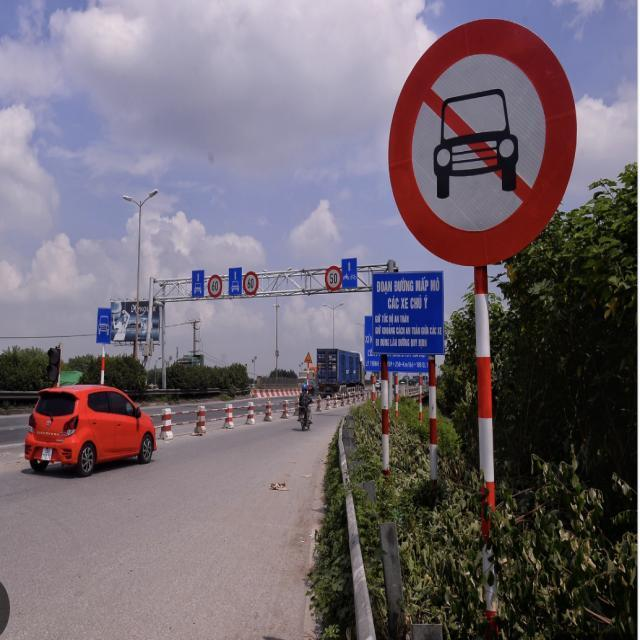103a-cam-oto: (388, 17, 577, 266)
127-toc-do-toi-da-50: (324, 264, 342, 292)
127-toc-do-toi-da-60: (208, 274, 222, 300), (244, 271, 258, 295)
